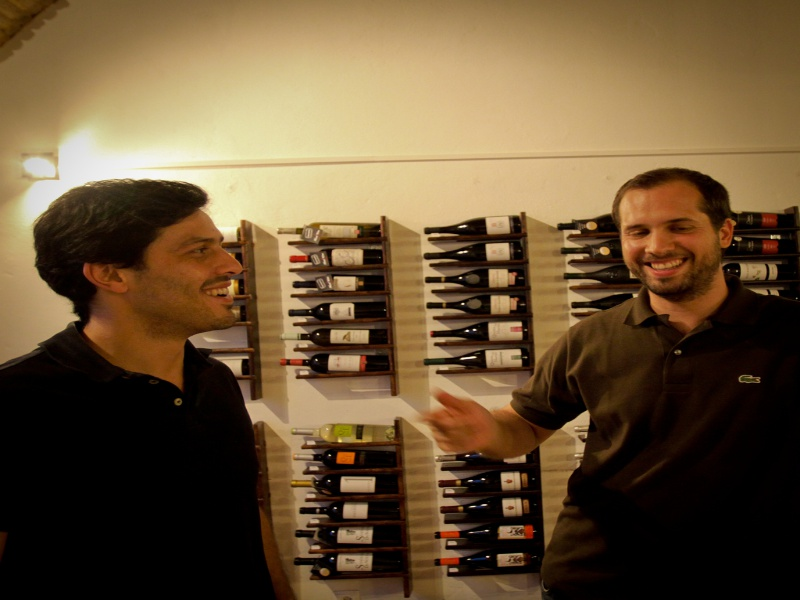wine: (268, 200, 417, 579), (420, 209, 556, 580), (545, 190, 617, 318)
